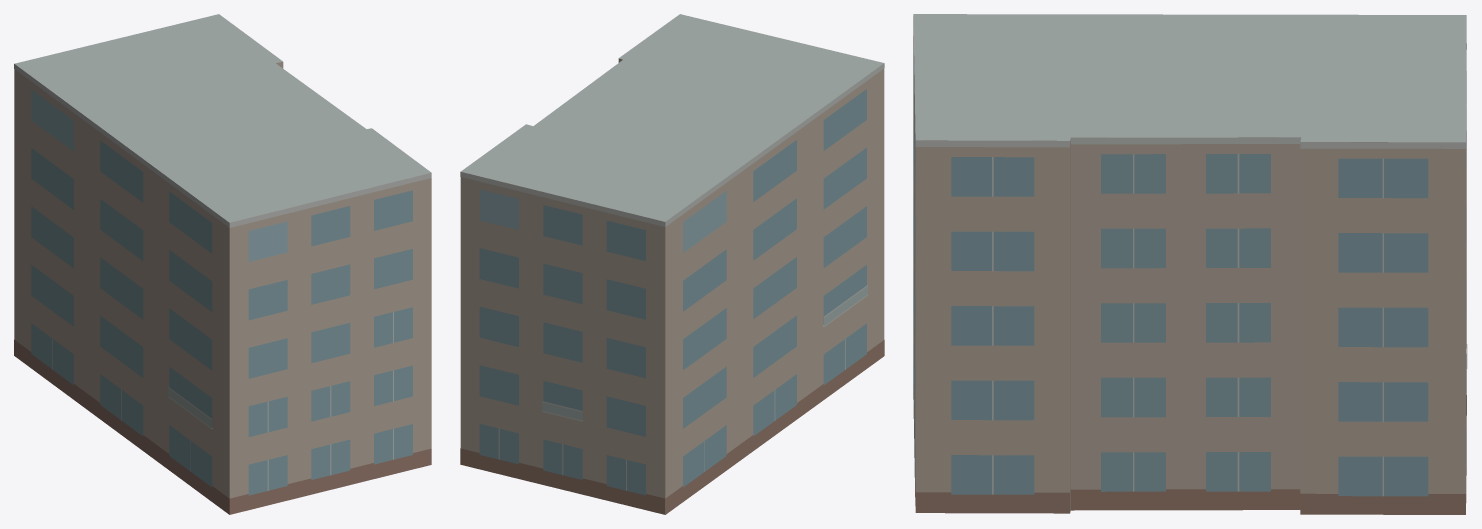
Rendered from survey-upis-32819593.glb.
3 renders of one model, left to right at view 1: azimuth 30°, elevation 25°; view 2: azimuth 150°, elevation 25°; view 3: azimuth 270°, elevation 25°, orthographic. The views are drawn at different scales.
Parts seen in each view (by area): view 1: survey-upis-32819593.tmp; view 2: survey-upis-32819593.tmp; view 3: survey-upis-32819593.tmp.
Boxes of the visible parts, x1,y1,x2,y2 form: survey-upis-32819593.tmp: [14, 14, 431, 514]; survey-upis-32819593.tmp: [460, 14, 884, 514]; survey-upis-32819593.tmp: [913, 14, 1467, 514].
Bounding box in the file's own units: 10.23 × 13.8 × 18.61.
